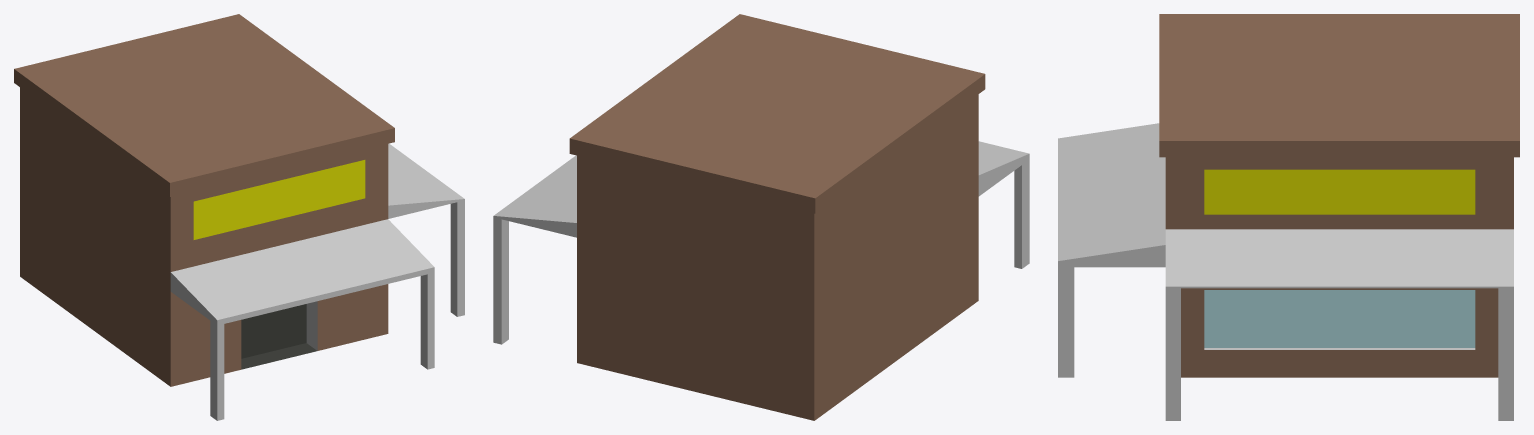
Rendered from LocalStore01.fbx.
The picture shows the model from 3 angles, left to right: view 1: azimuth 30°, elevation 25°; view 2: azimuth 150°, elevation 25°; view 3: azimuth 270°, elevation 25°; orthographic projection. The views are drawn at different scales.
Parts seen in each view (by area): view 1: LocalStore01; view 2: LocalStore01; view 3: LocalStore01.
Boxes of the visible parts, x1=… form: LocalStore01: x1=14, y1=14, x2=464, y2=420; LocalStore01: x1=493, y1=14, x2=1029, y2=420; LocalStore01: x1=1058, y1=14, x2=1519, y2=420.
Bounding box in the file's own units: 155 × 103 × 180.
